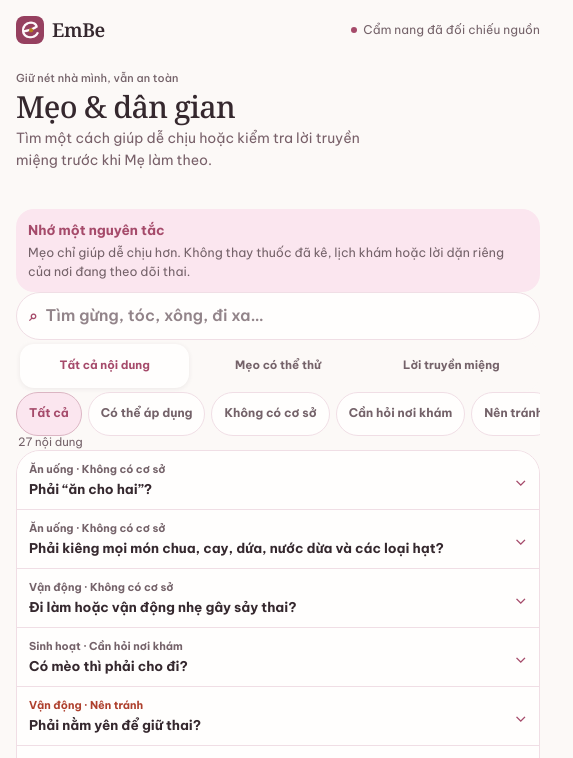
Scenario: pregnancy folk guide › finds Vietnamese text without requiring accents and filters by safety level
Type "nhuom toc" into the search field. click: (285, 316)
box: [37,293,532,339]
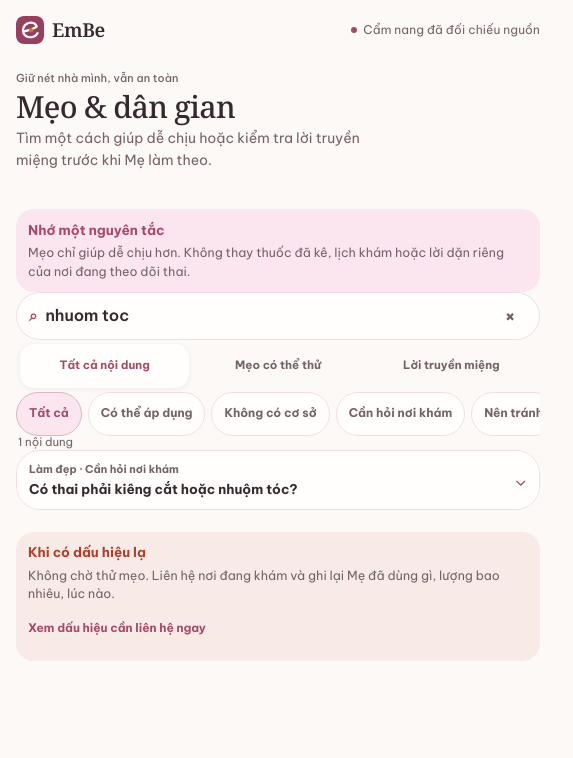
Expected: the text "Có thai phải kiêng cắt hoặc nhuộm tóc?" is shown, [29,481,298,499]
Expected: the heading "Phải “ăn cho hai”?" is gone
Click the button "Nên tránh". click: (514, 414)
box: [471,392,556,436]
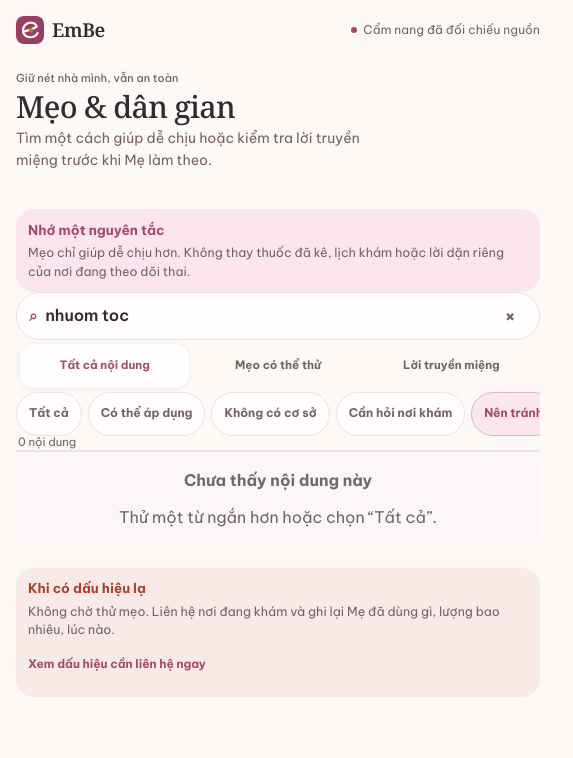
Expected: the text "Chưa thấy nội dung này" is shown, [184,468,372,493]
Click the button named "Xóa tìm kiếm". click: (510, 316)
box: [488,294,532,338]
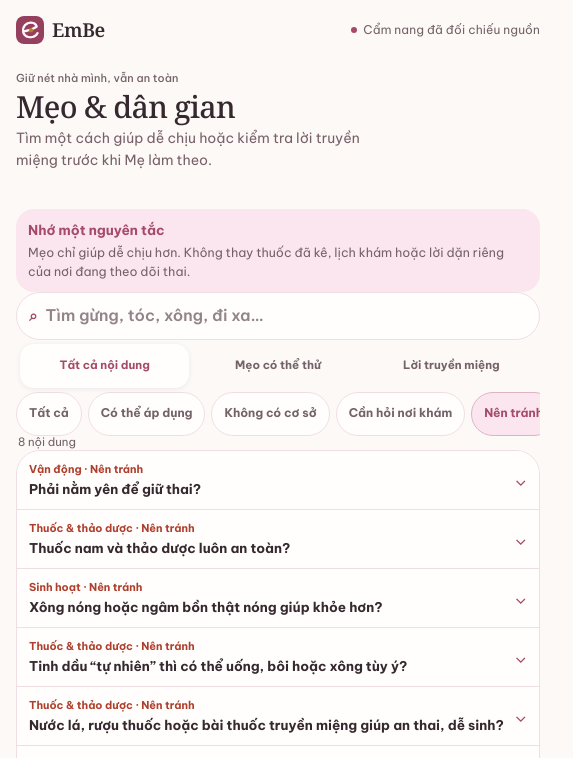
Expected: the text "Tinh dầu “tự nhiên” thì có thể uống, bôi hoặc xông tùy ý?" is shown, [29,658,407,676]
